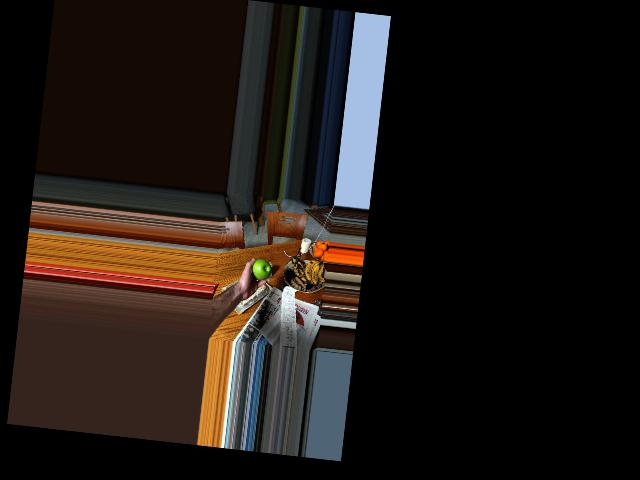apple: (251, 257, 271, 281)
